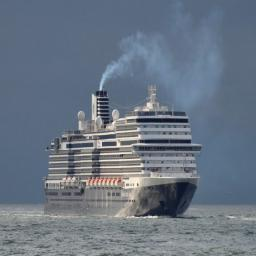cruises: (43, 80, 205, 223)
